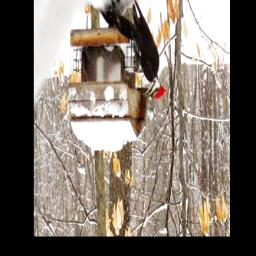Woodpecker: (107, 0, 168, 100)
